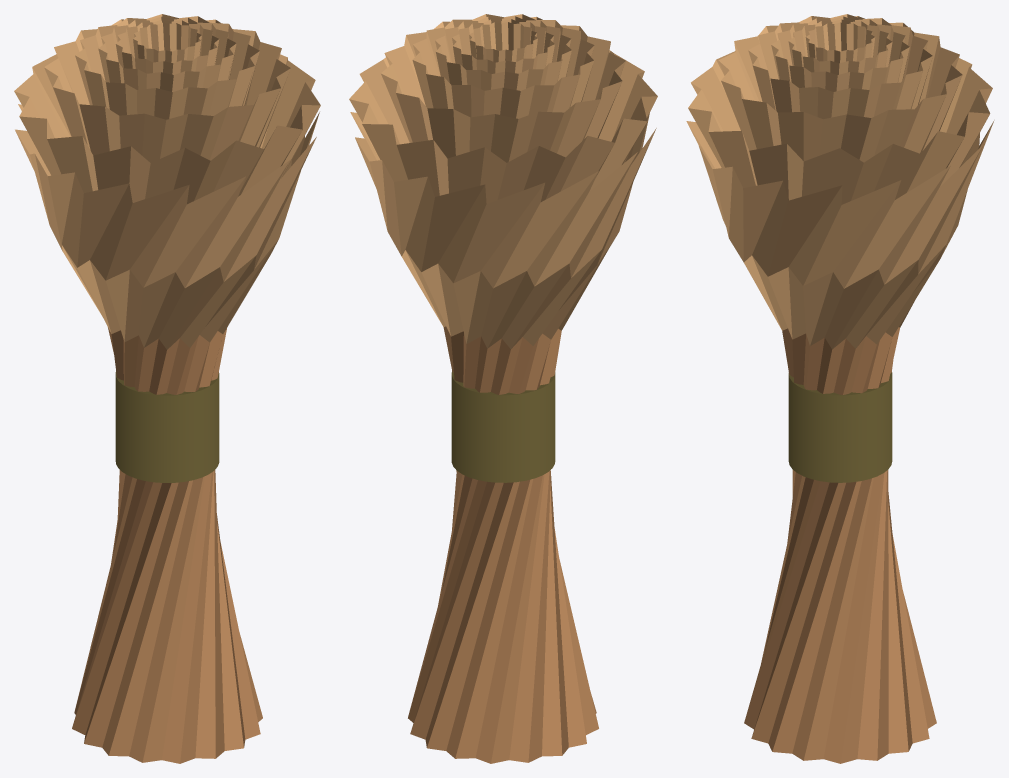
File: rice.fbx
3 renders of one model, left to right at view 1: azimuth 30°, elevation 25°; view 2: azimuth 150°, elevation 25°; view 3: azimuth 270°, elevation 25°, orthographic.
Parts seen in each view (by area): view 1: rice; view 2: rice; view 3: rice.
Boxes of the visible parts, x1,y1,x2,y2 form: rice: (14,14,320,763); rice: (349,14,657,763); rice: (686,14,994,763).
Bounding box in the file's own units: 320 × 785 × 320.
